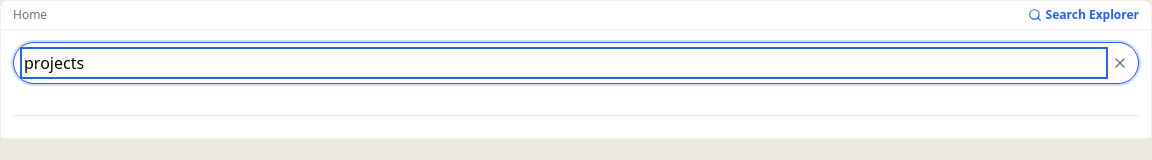
Test: HierarchyExplorer Task 151 dedicated search and reveal › clears active and interrupted search with X and returns focus to the entry
This screenshot has width=1152, height=160.
Click the button named "Clear and close Explorer search": [1120, 63] box [1112,55,1128,71]
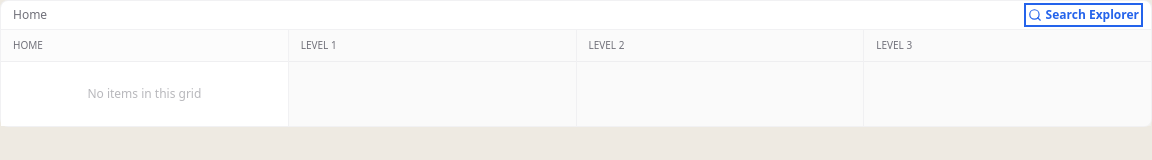
expect the element with test id "explorer-search-body" is gone: met
